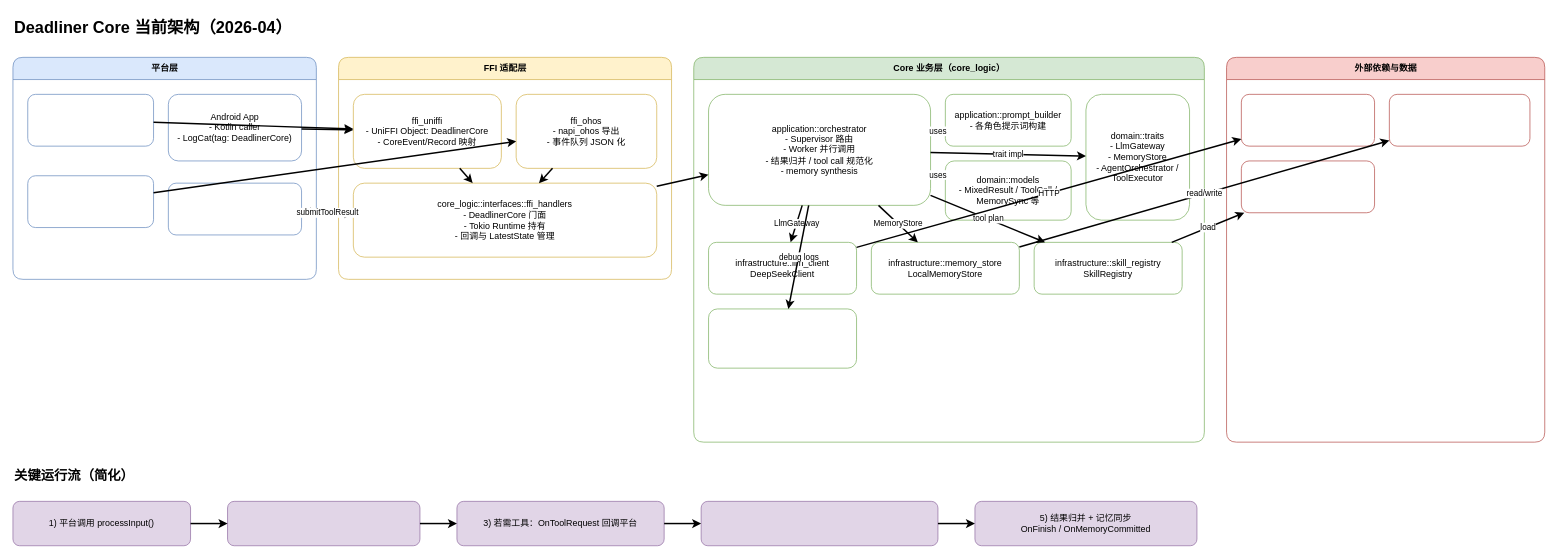
Some shapes in this 1558 by 559 pixel diagram are drawn without their labels. The shapes that lost their labels are listed below. From the top down, each one's centre as x and y in pixels, then its label:
At (90,120): "iOS App - Swift / Kotlin Multiplatform caller".
At (1308,120): "DeepSeek API /chat/completions".
At (1459,120): "本地存储目录 (memory snapshot / deltas)".
At (90,201): "Harmony App - ArkTS/JS caller".
At (1308,186): "skills/*.json (capability → tool mapping)".
At (235,208): "本地工具执行器 (Task/Habit DB 查询、改期等)".
At (782,338): "infrastructure::logger Android: liblog(LogCat) Others: stdout".
At (323,523): "2) Orchestrator 路由 + 并行 Worker".
At (819,523): "4) 平台执行本地工具后 submitToolResult()".
